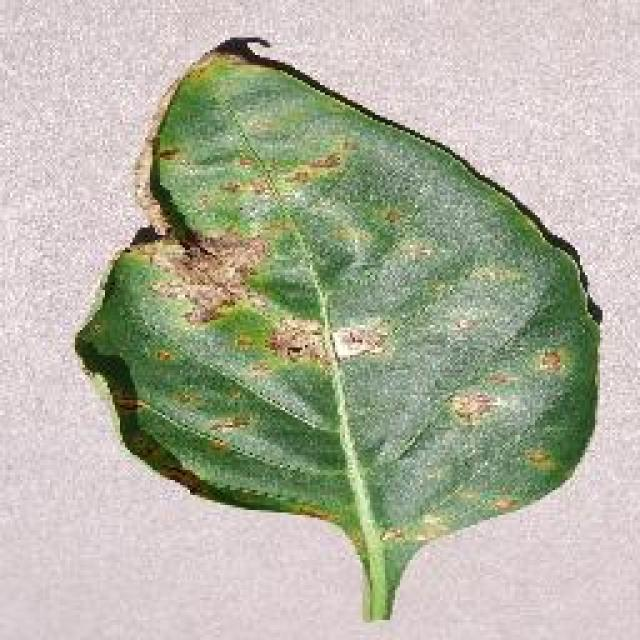Chilli_Bacterial_Spot: (70, 32, 608, 622), (145, 228, 273, 328), (440, 340, 570, 430), (227, 310, 395, 375), (215, 135, 355, 205), (262, 312, 332, 370), (328, 317, 390, 365), (280, 148, 345, 192), (445, 385, 500, 430), (460, 255, 528, 290), (520, 442, 560, 478), (530, 342, 568, 378)
